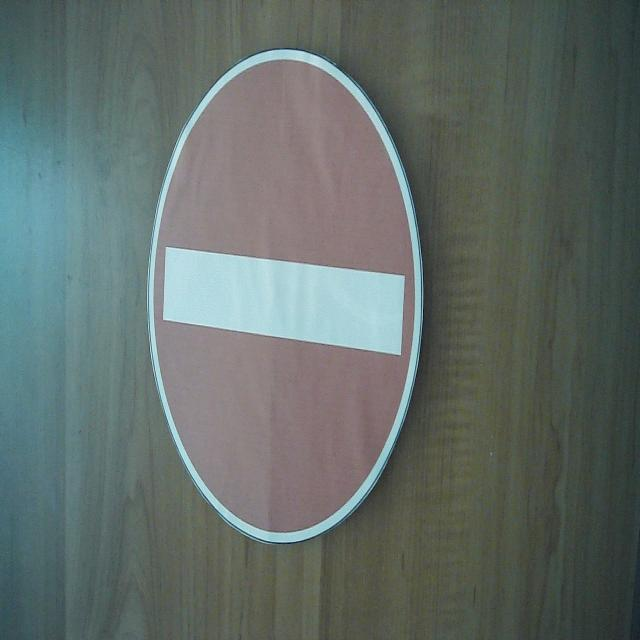no_entry: (146, 44, 426, 550)
